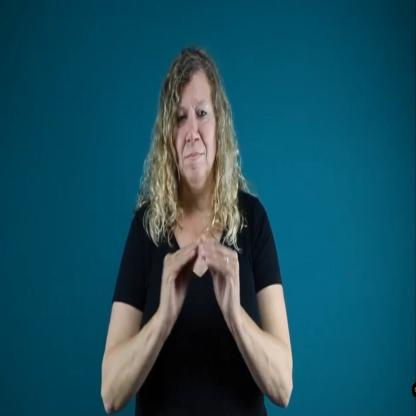Fix: (100, 46, 293, 416)
